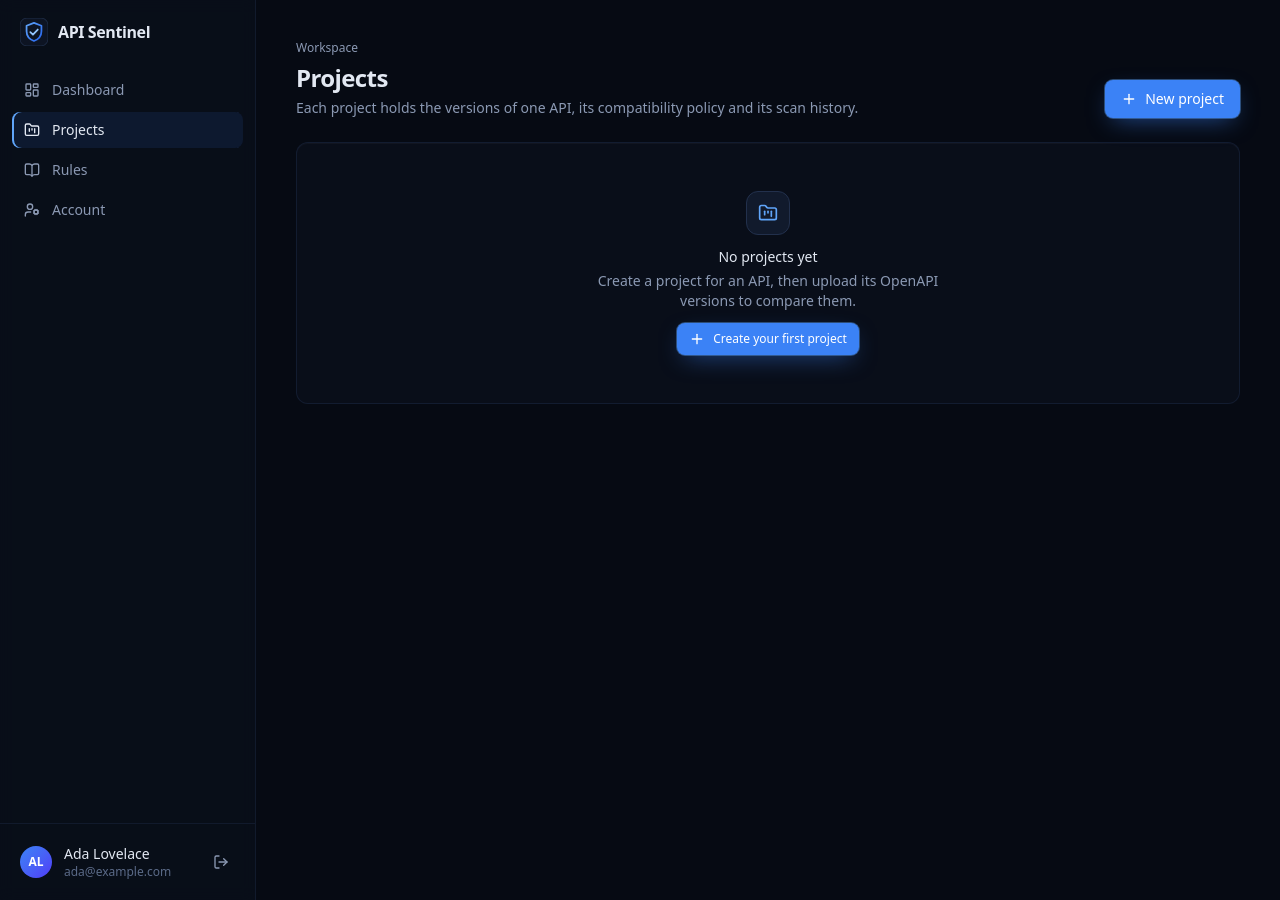
Test: AppShell › signs out to the login page without a stale next= parameter
The width and height of the screenshot is (1280, 900).
Expected: the heading "Projects" is shown, [296,61,388,94]
Click the button named "Sign out" at (221, 862), box [207,848,235,876]
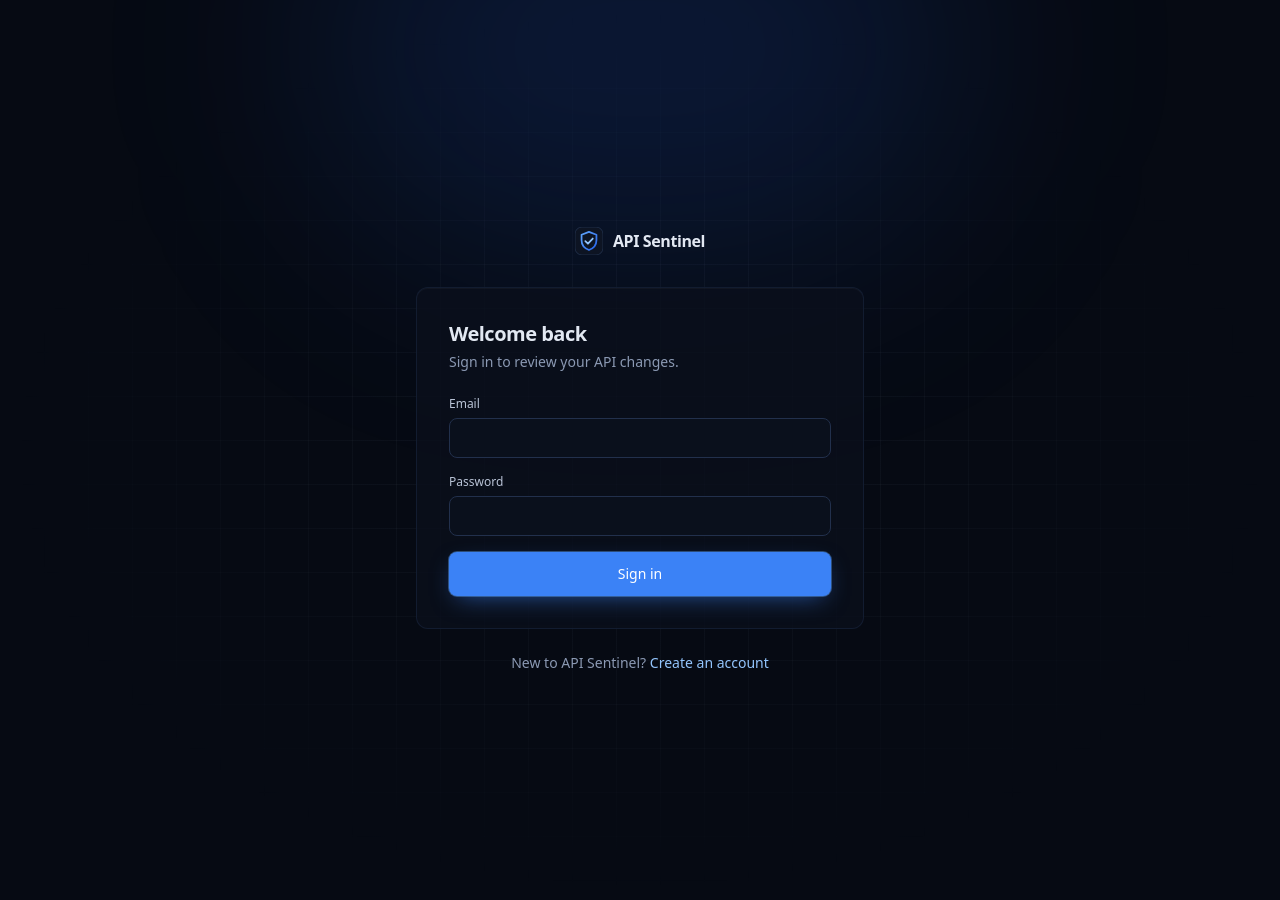
Expected: the heading "Welcome back" is shown, [449,320,587,347]
Type "ada@example.com" into the field labelled "Email" at (640, 438), box [449,418,831,458]
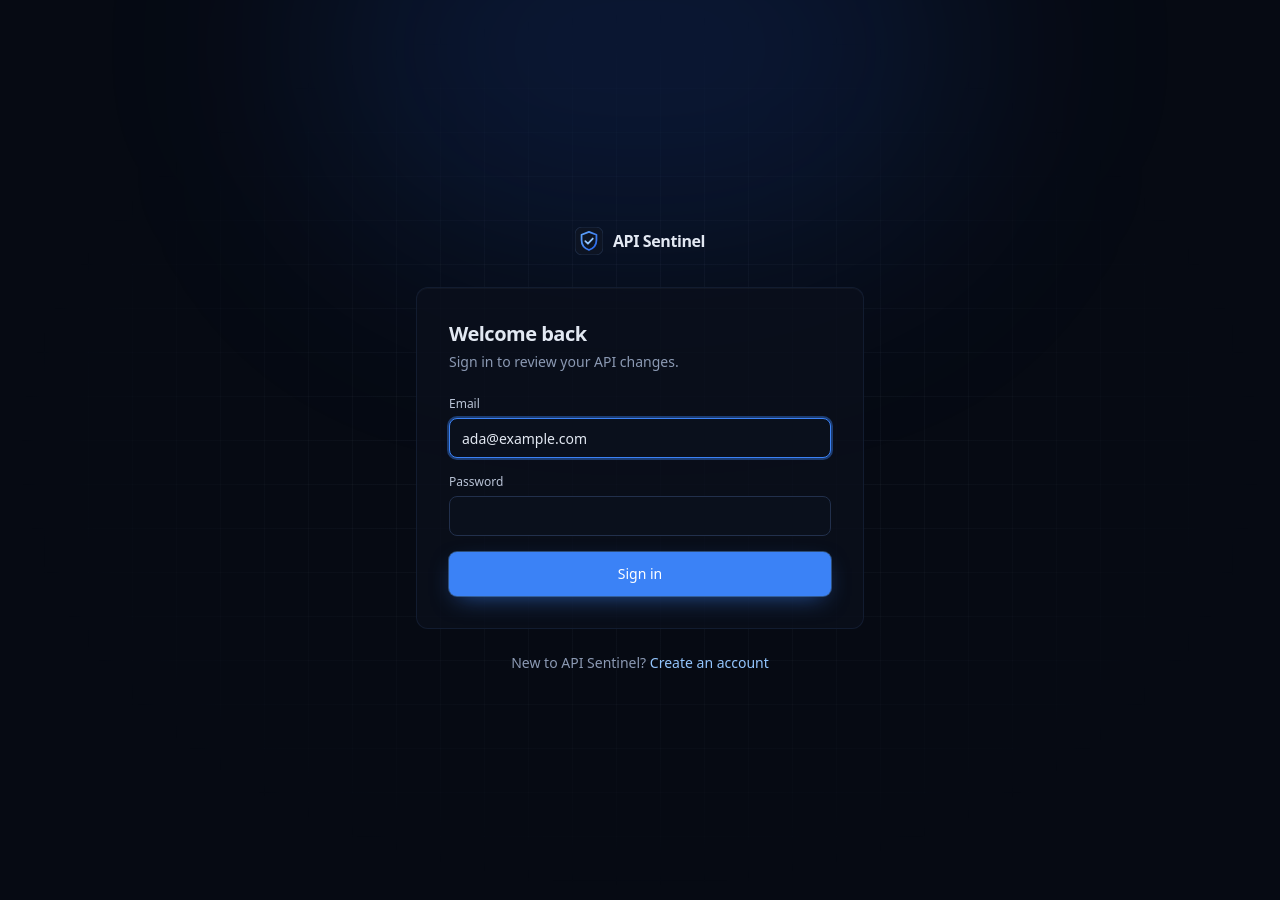
Type "Correct-horse-9" into the password field labelled "Password" at (640, 516), box [449,496,831,536]
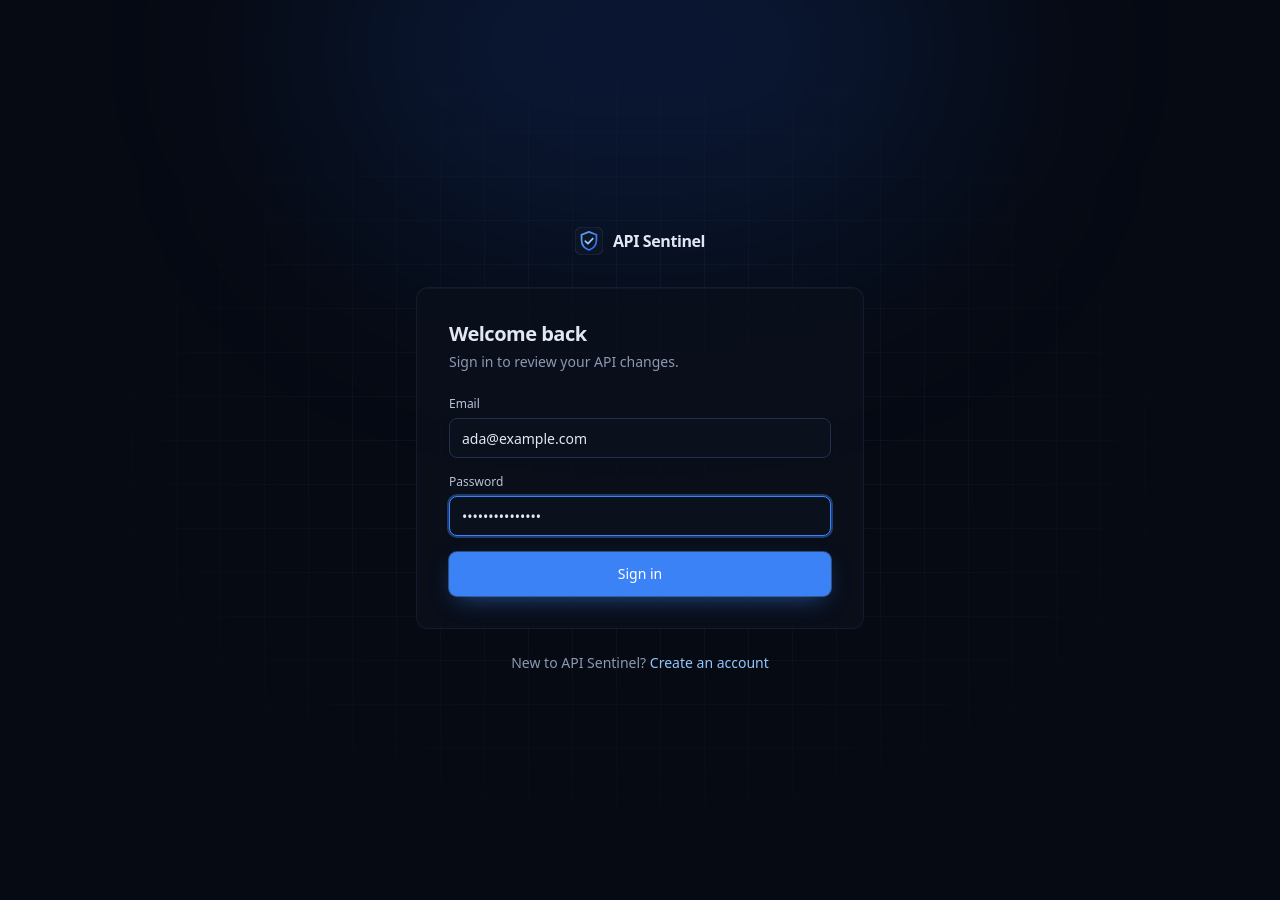
Click the button "Sign in" at (640, 574), box [449,552,831,596]
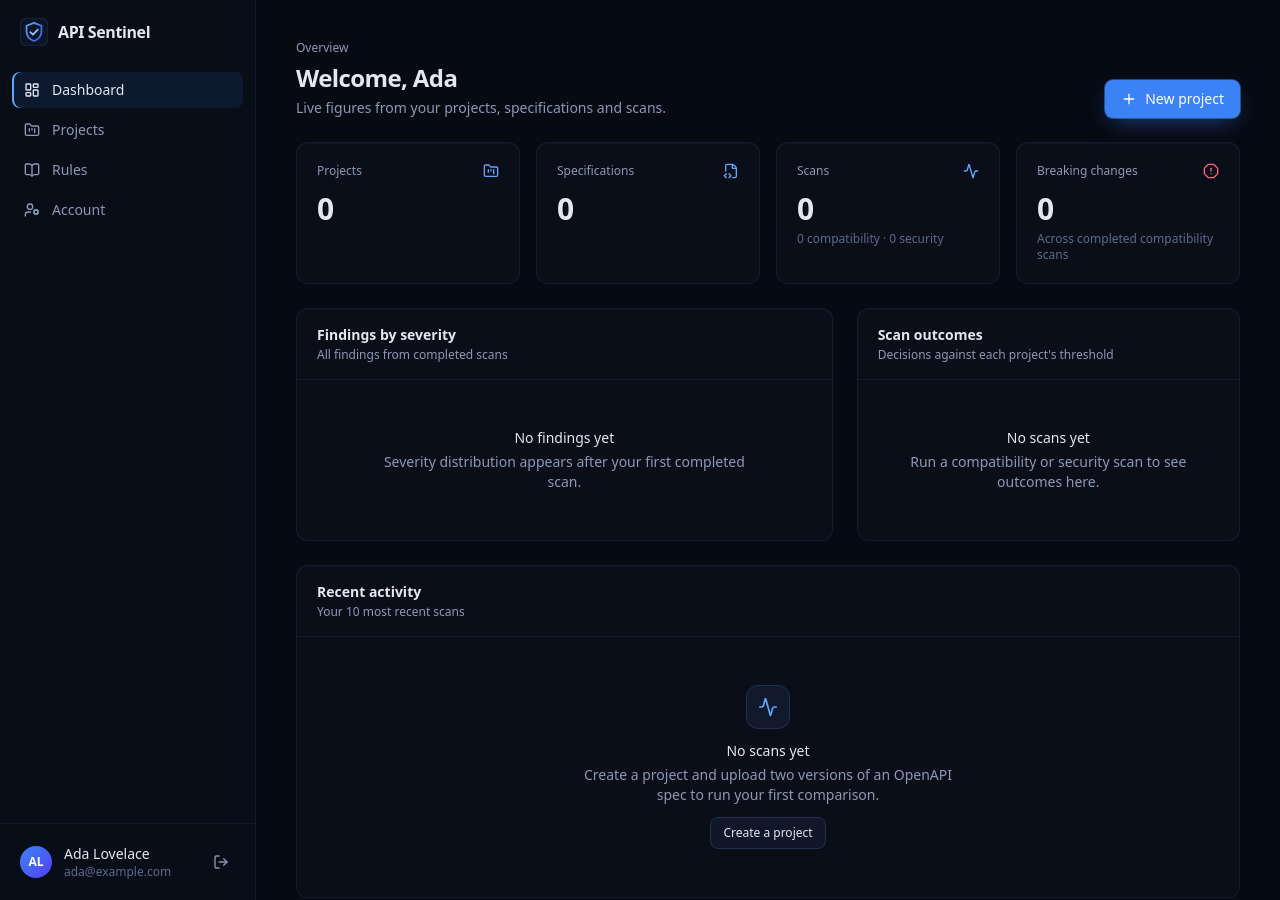
Expected: the heading "Welcome, Ada" is shown, [296,61,457,94]
